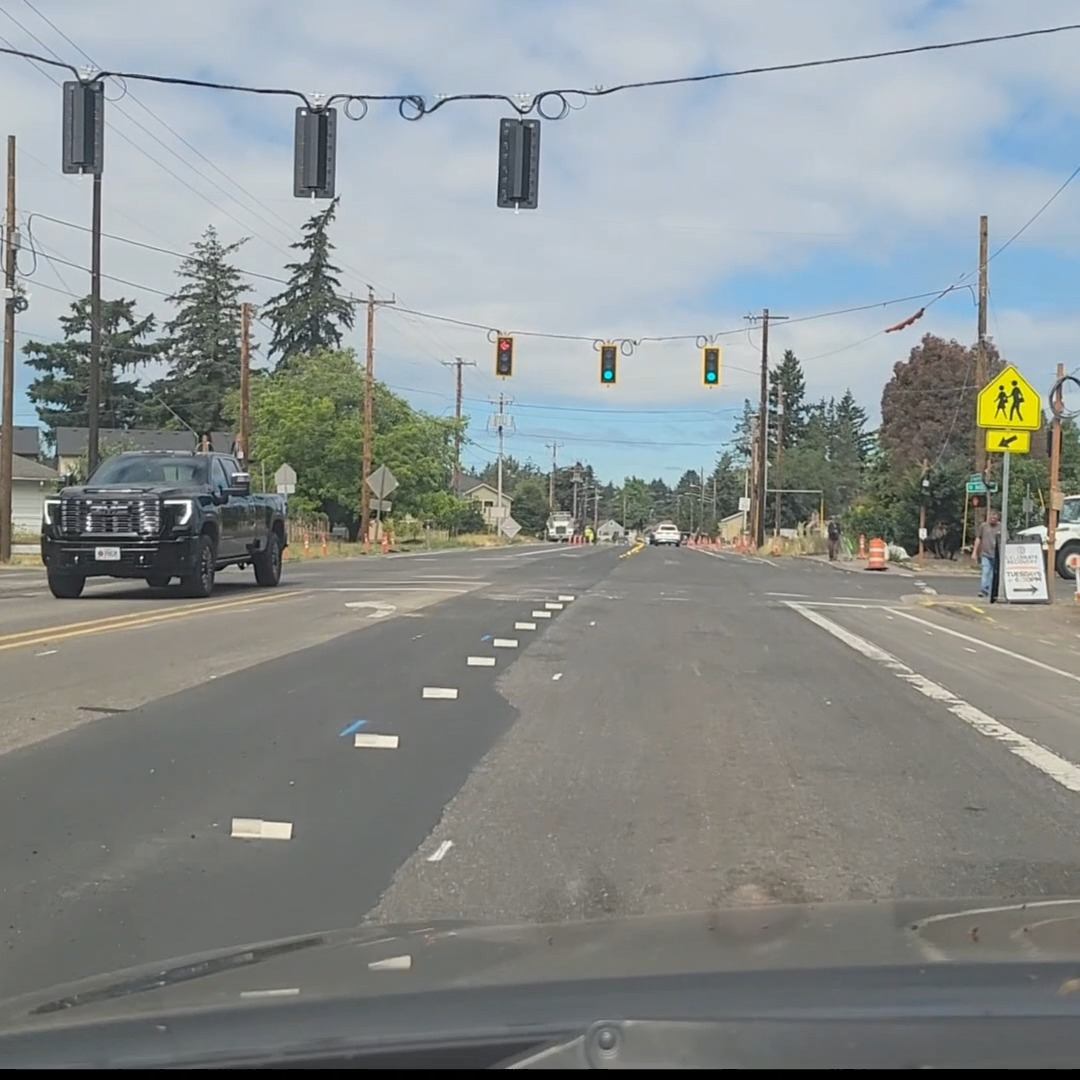car: (645, 523, 681, 546)
delineator: (361, 523, 397, 553), (298, 532, 313, 561), (855, 532, 868, 562), (359, 525, 370, 553), (770, 536, 781, 555), (320, 532, 327, 555)
